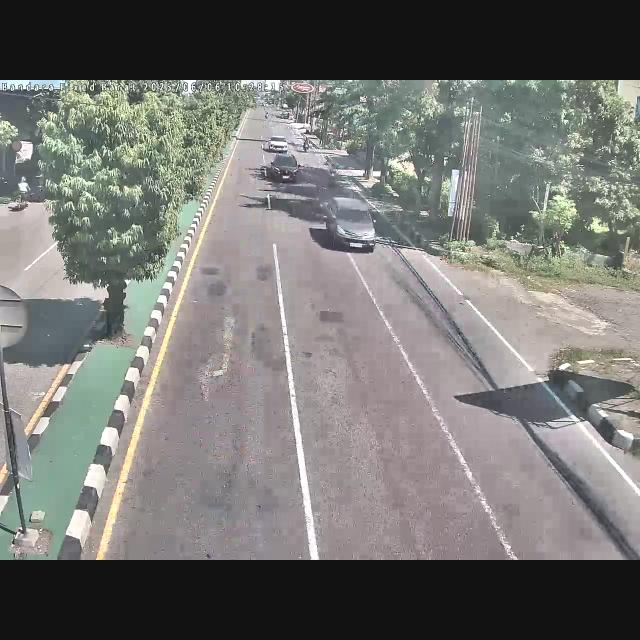Mobil: (324, 194, 378, 256), (272, 154, 298, 182)
